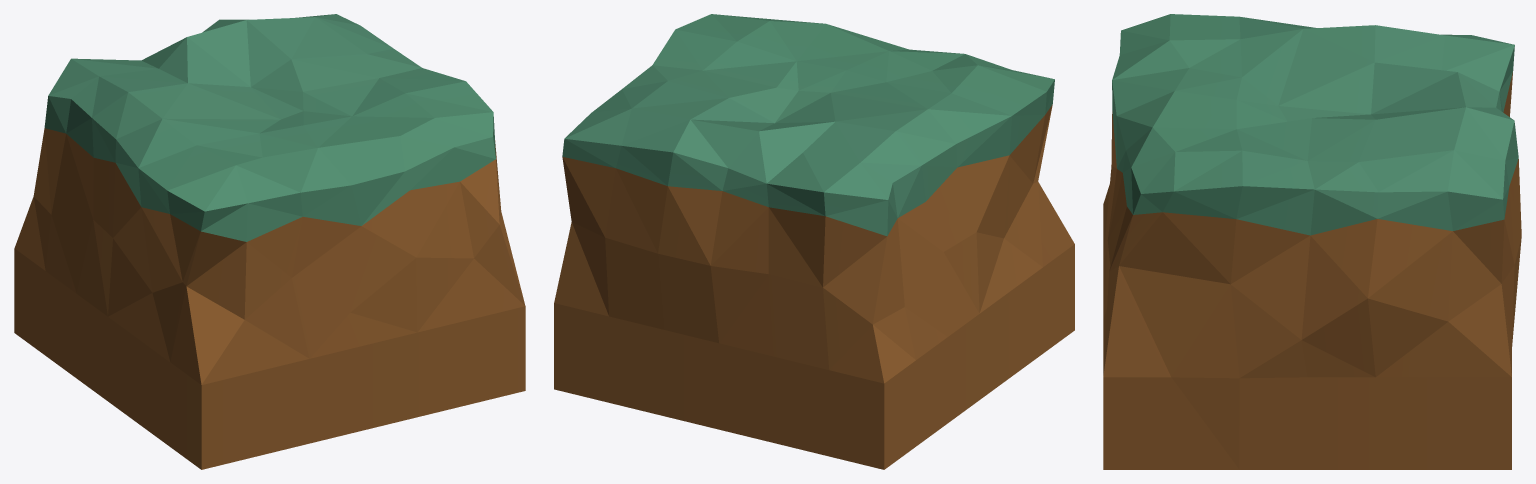
File: Cliff_01.fbx
3 renders of one model, left to right at view 1: azimuth 30°, elevation 25°; view 2: azimuth 150°, elevation 25°; view 3: azimuth 270°, elevation 25°, orthographic. The views are drawn at different scales.
Visible parts, largest first — view 1: Cliff_01; view 2: Cliff_01; view 3: Cliff_01.
Boxes of the visible parts, left/top/right/bottom form: Cliff_01: left=14, top=14, right=525, bottom=469; Cliff_01: left=554, top=14, right=1074, bottom=469; Cliff_01: left=1103, top=14, right=1521, bottom=469.
Size of the model in its own units: 41.95 by 32.82 by 40.96.
